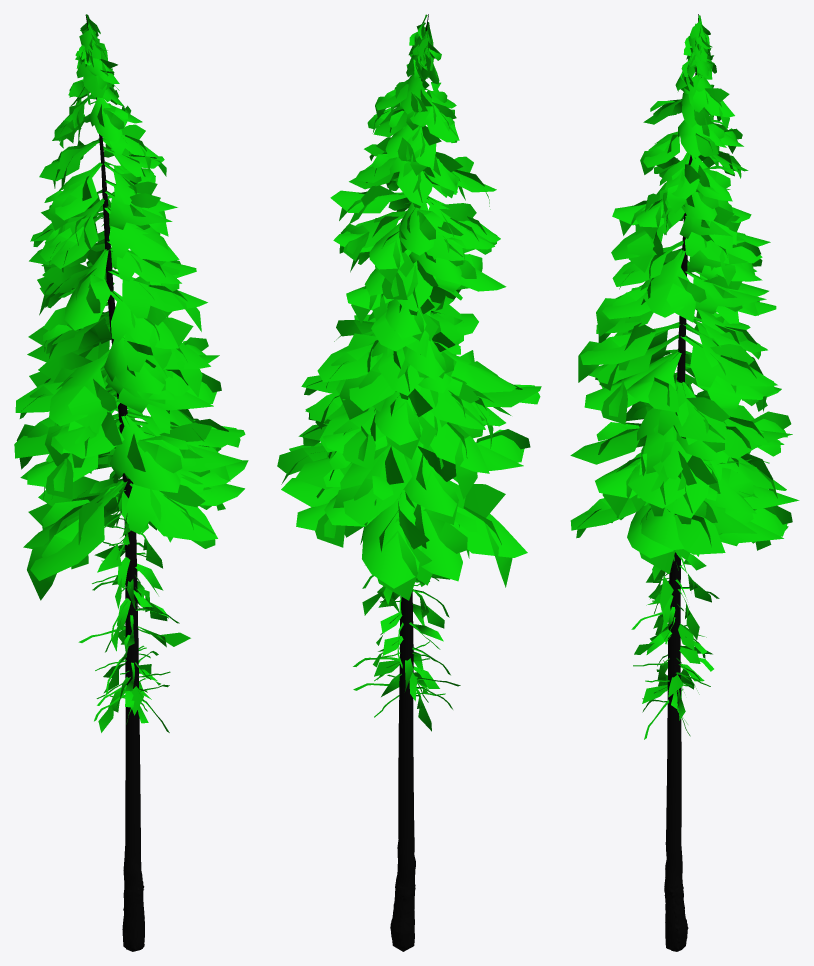
File: Pine.FBX
3 renders of one model, left to right at view 1: azimuth 30°, elevation 25°; view 2: azimuth 150°, elevation 25°; view 3: azimuth 270°, elevation 25°, orthographic. The views are drawn at different scales.
Visible parts, largest first — view 1: pine_LOD0; view 2: pine_LOD0; view 3: pine_LOD0.
Part boxes in pixels (box(x1,y1,x2,y2)): pine_LOD0: box(14, 14, 248, 951); pine_LOD0: box(277, 14, 541, 951); pine_LOD0: box(570, 14, 799, 951).
Size of what is drawn, in the model's own units: 537 by 2125 by 480.
